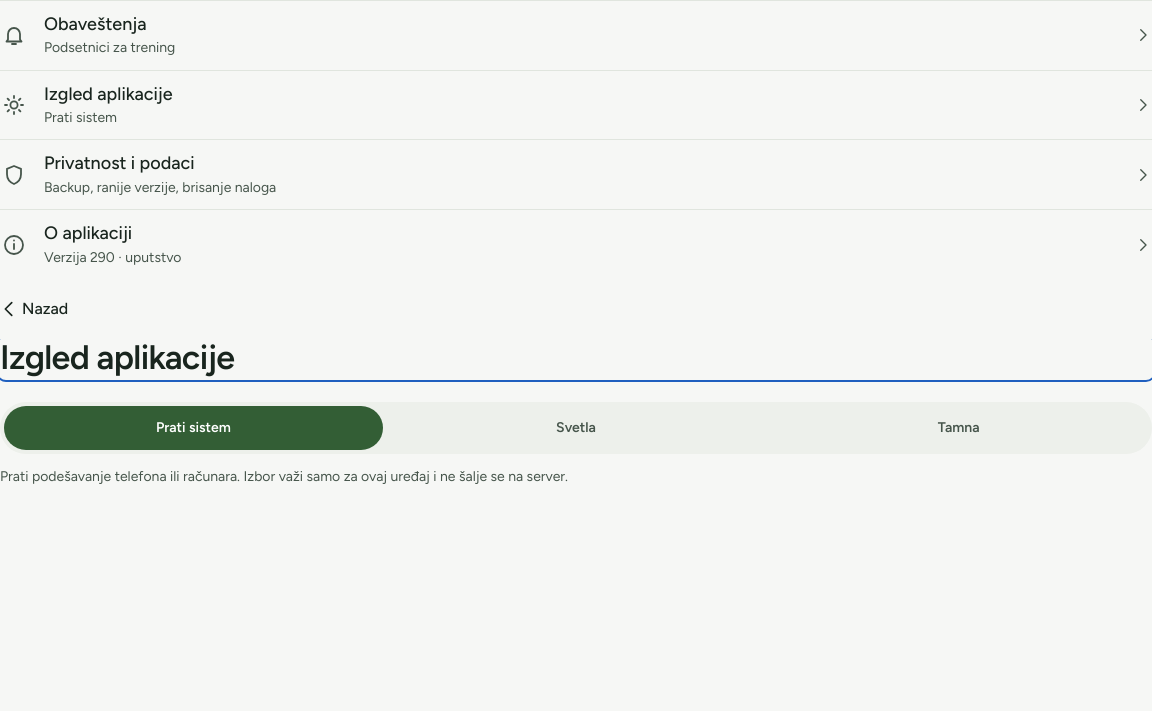
Izgled aplikacije › red na početnoj Ti pokazuje izabranu temu čim se promeni
The width and height of the screenshot is (1152, 711).
(page scrolled)
Expected: the button "Izgled aplikacije Prati sistem" is shown, left=0, top=70, right=1151, bottom=140
Click the button "Tamna": {"x": 959, "y": 428} left=769, top=406, right=1148, bottom=450
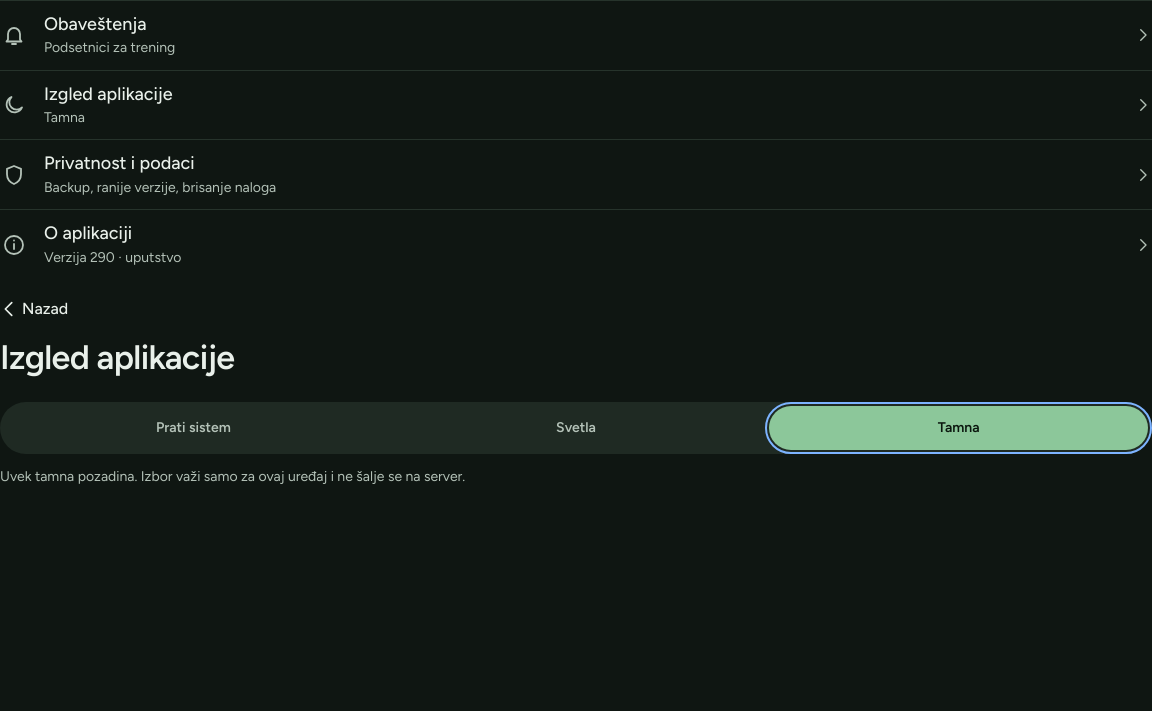
Now the button "Izgled aplikacije Tamna" is shown, box left=0, top=70, right=1151, bottom=140
